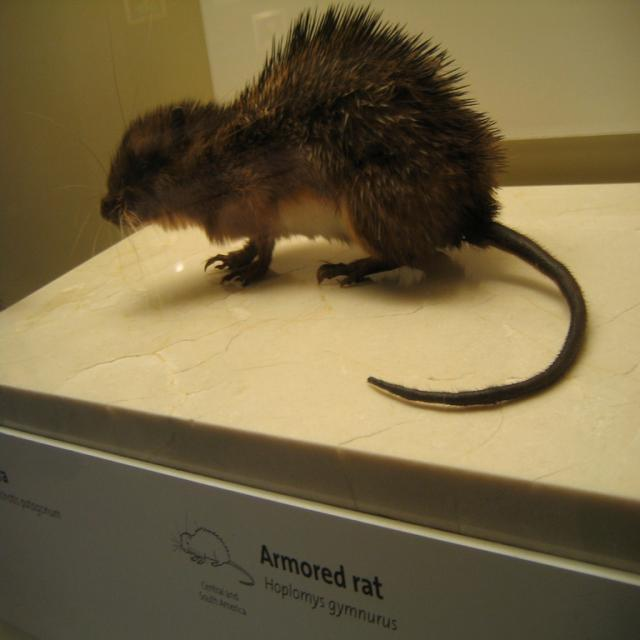rat: (96, 8, 590, 410)
